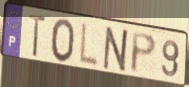9: (160, 39, 181, 78)
L: (77, 22, 100, 70)
N: (101, 25, 132, 75)
O: (50, 18, 76, 65)
P: (129, 31, 158, 76)
T: (26, 13, 48, 60)
